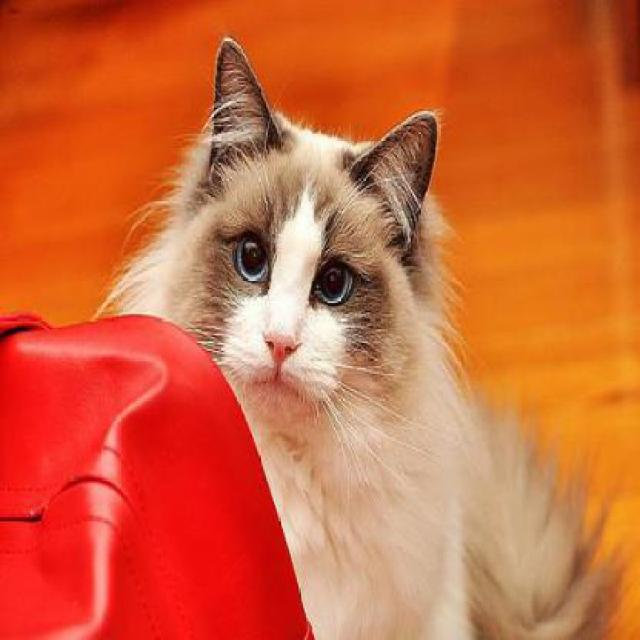cat: (125, 36, 610, 638)
